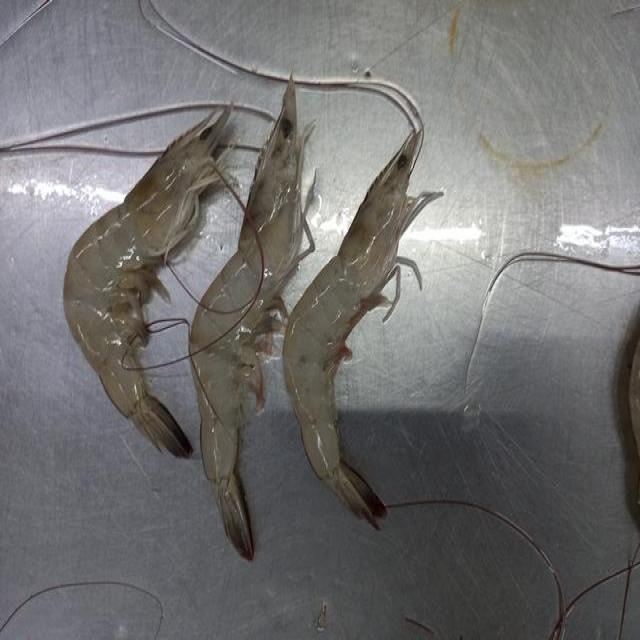shrimp: (284, 130, 442, 526), (64, 108, 229, 457), (189, 78, 305, 559)
